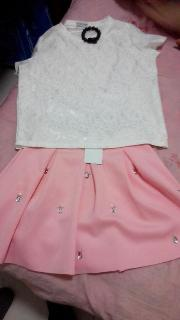short sleeve top: (15, 17, 168, 150)
skirt: (1, 129, 180, 277)
